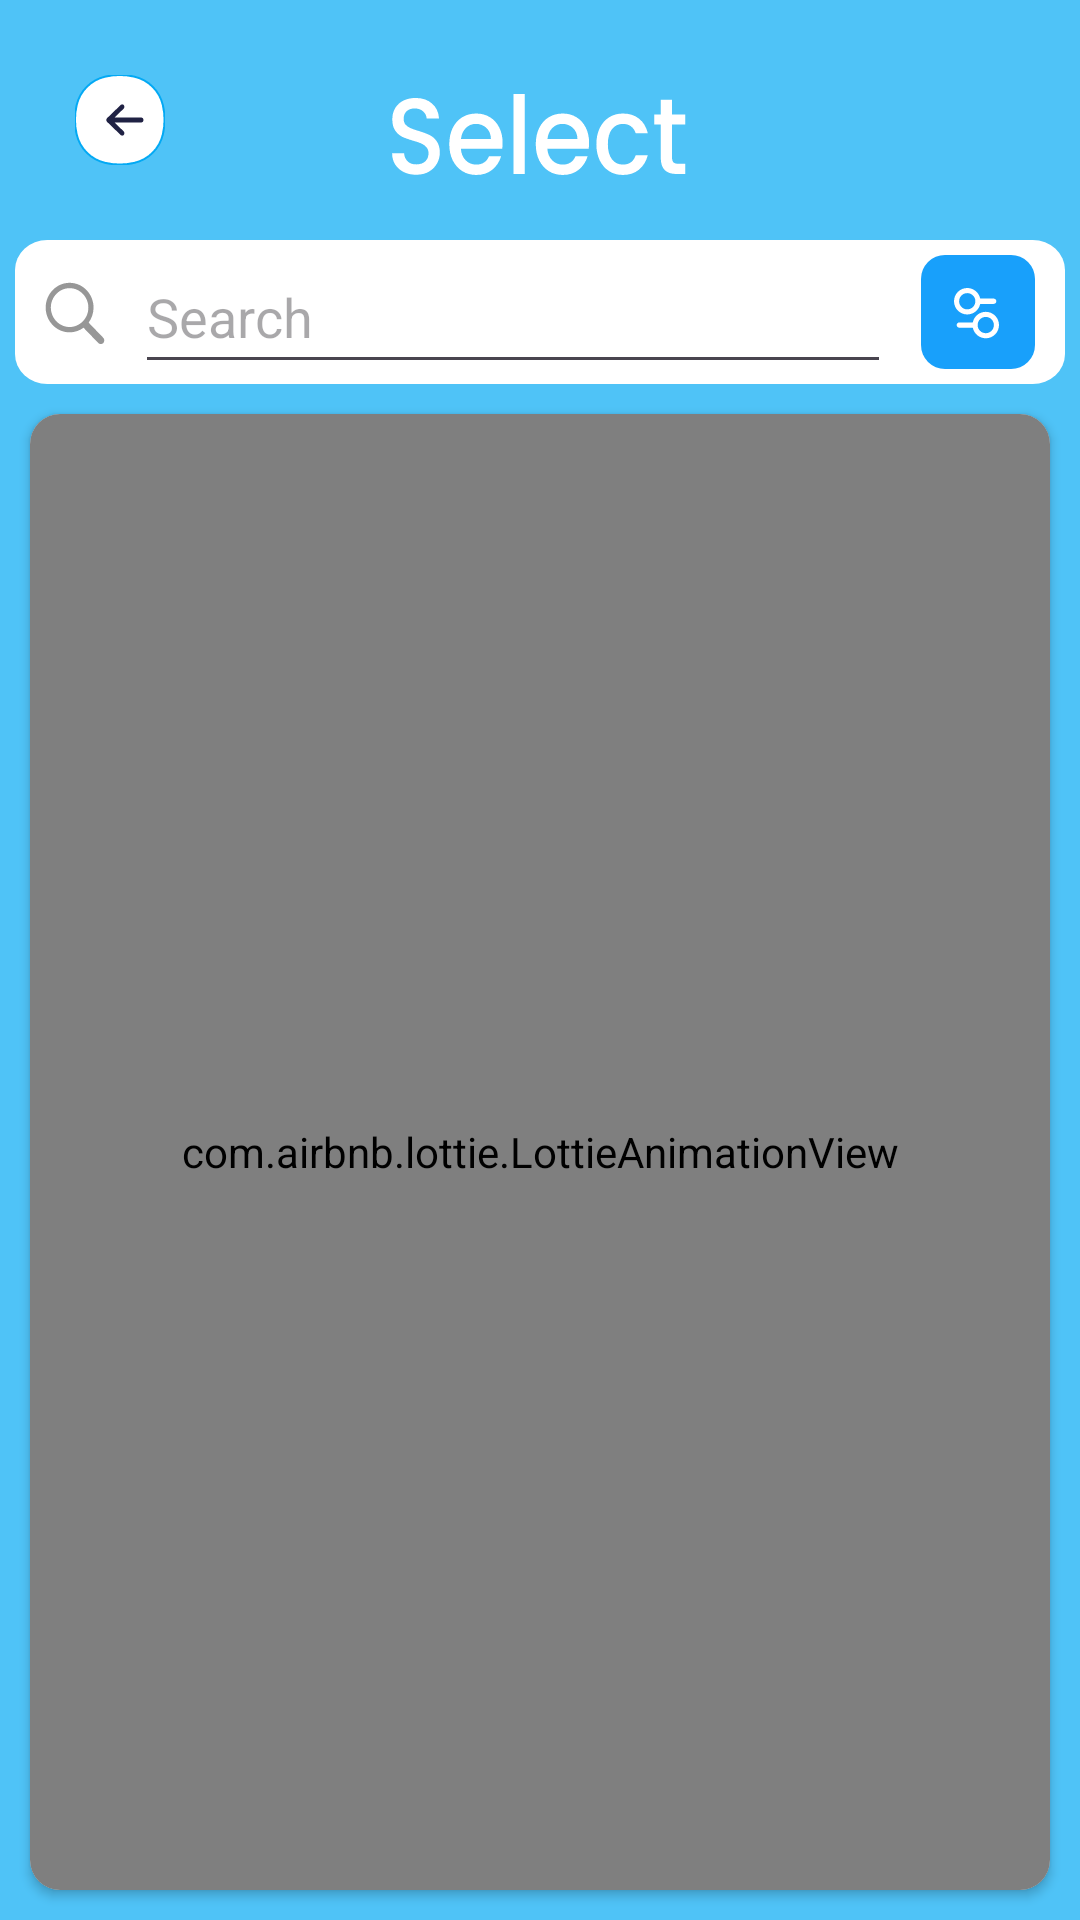

Icons on this 1080 x 1920 Android screen, each with the point to tap as (x=x, y=y):
back: (x=120, y=120)
